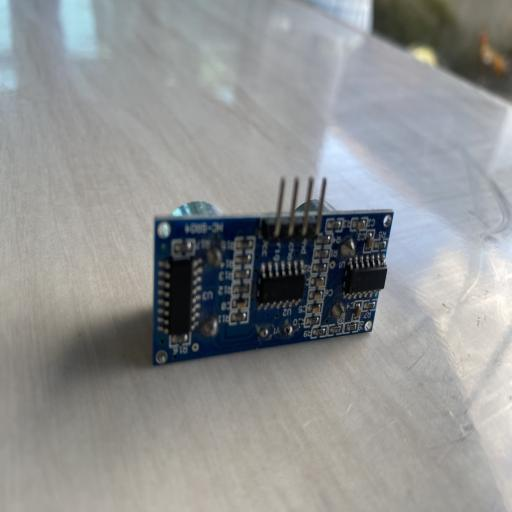Ultrasonic Sensor: (152, 175, 394, 365)
